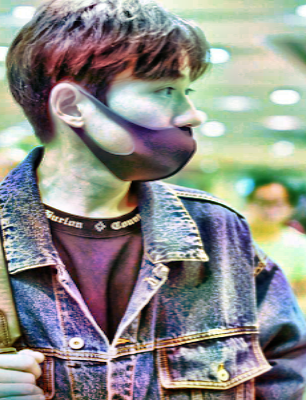mask_weared_incorrect: (90, 72, 202, 182)
